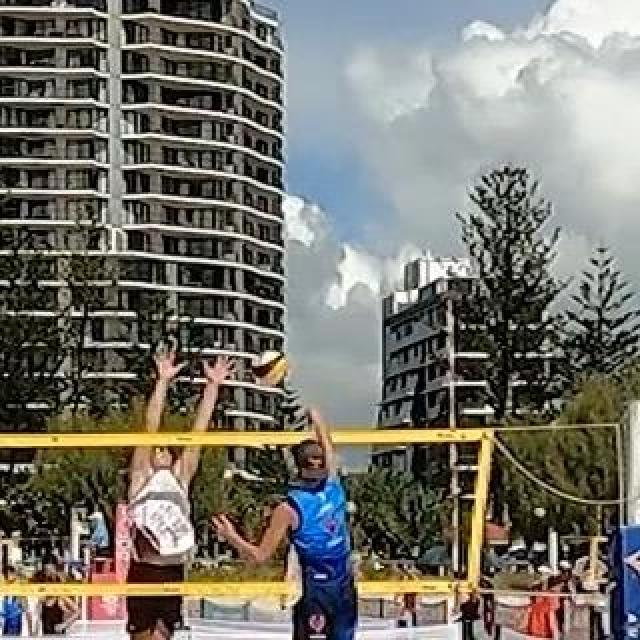volleyball: (252, 350, 290, 384)
